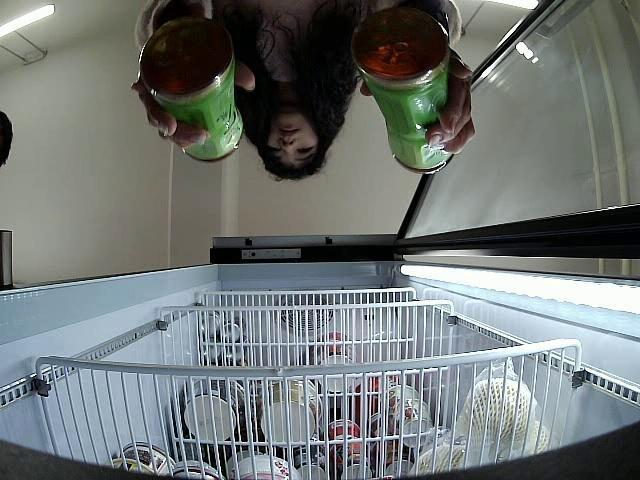19_17cha: (352, 6, 453, 174), (140, 15, 247, 164)
